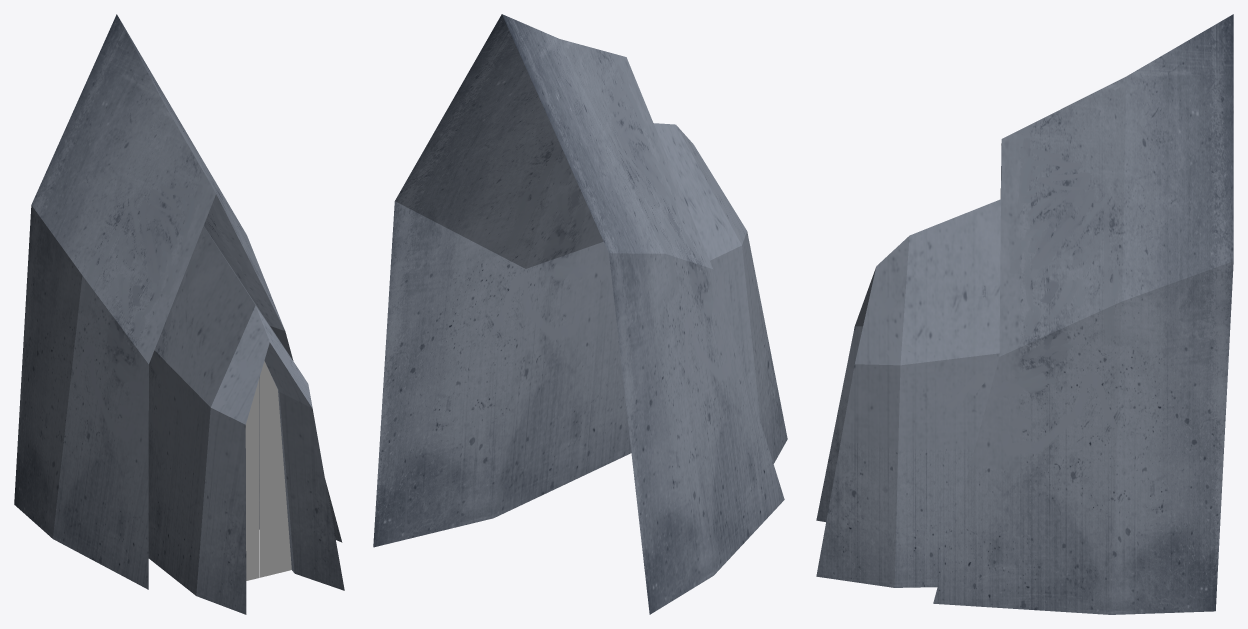
The model's file is Pharkas_Build01.fbx.
3 renders of one model, left to right at view 1: azimuth 30°, elevation 25°; view 2: azimuth 150°, elevation 25°; view 3: azimuth 270°, elevation 25°, orthographic. The views are drawn at different scales.
Parts seen in each view (by area): view 1: polySurface5, pCube2, pCube1; view 2: polySurface5; view 3: polySurface5.
Part boxes in pixels (x1,y1,x2,y2): polySurface5: [14, 14, 344, 614]; pCube2: [260, 361, 291, 577]; pCube1: [245, 378, 259, 580]; polySurface5: [373, 14, 787, 614]; polySurface5: [816, 14, 1233, 614].
Size of the model in its own units: 179 by 337 by 238.
Materials: 2 (1 with a texture image).
